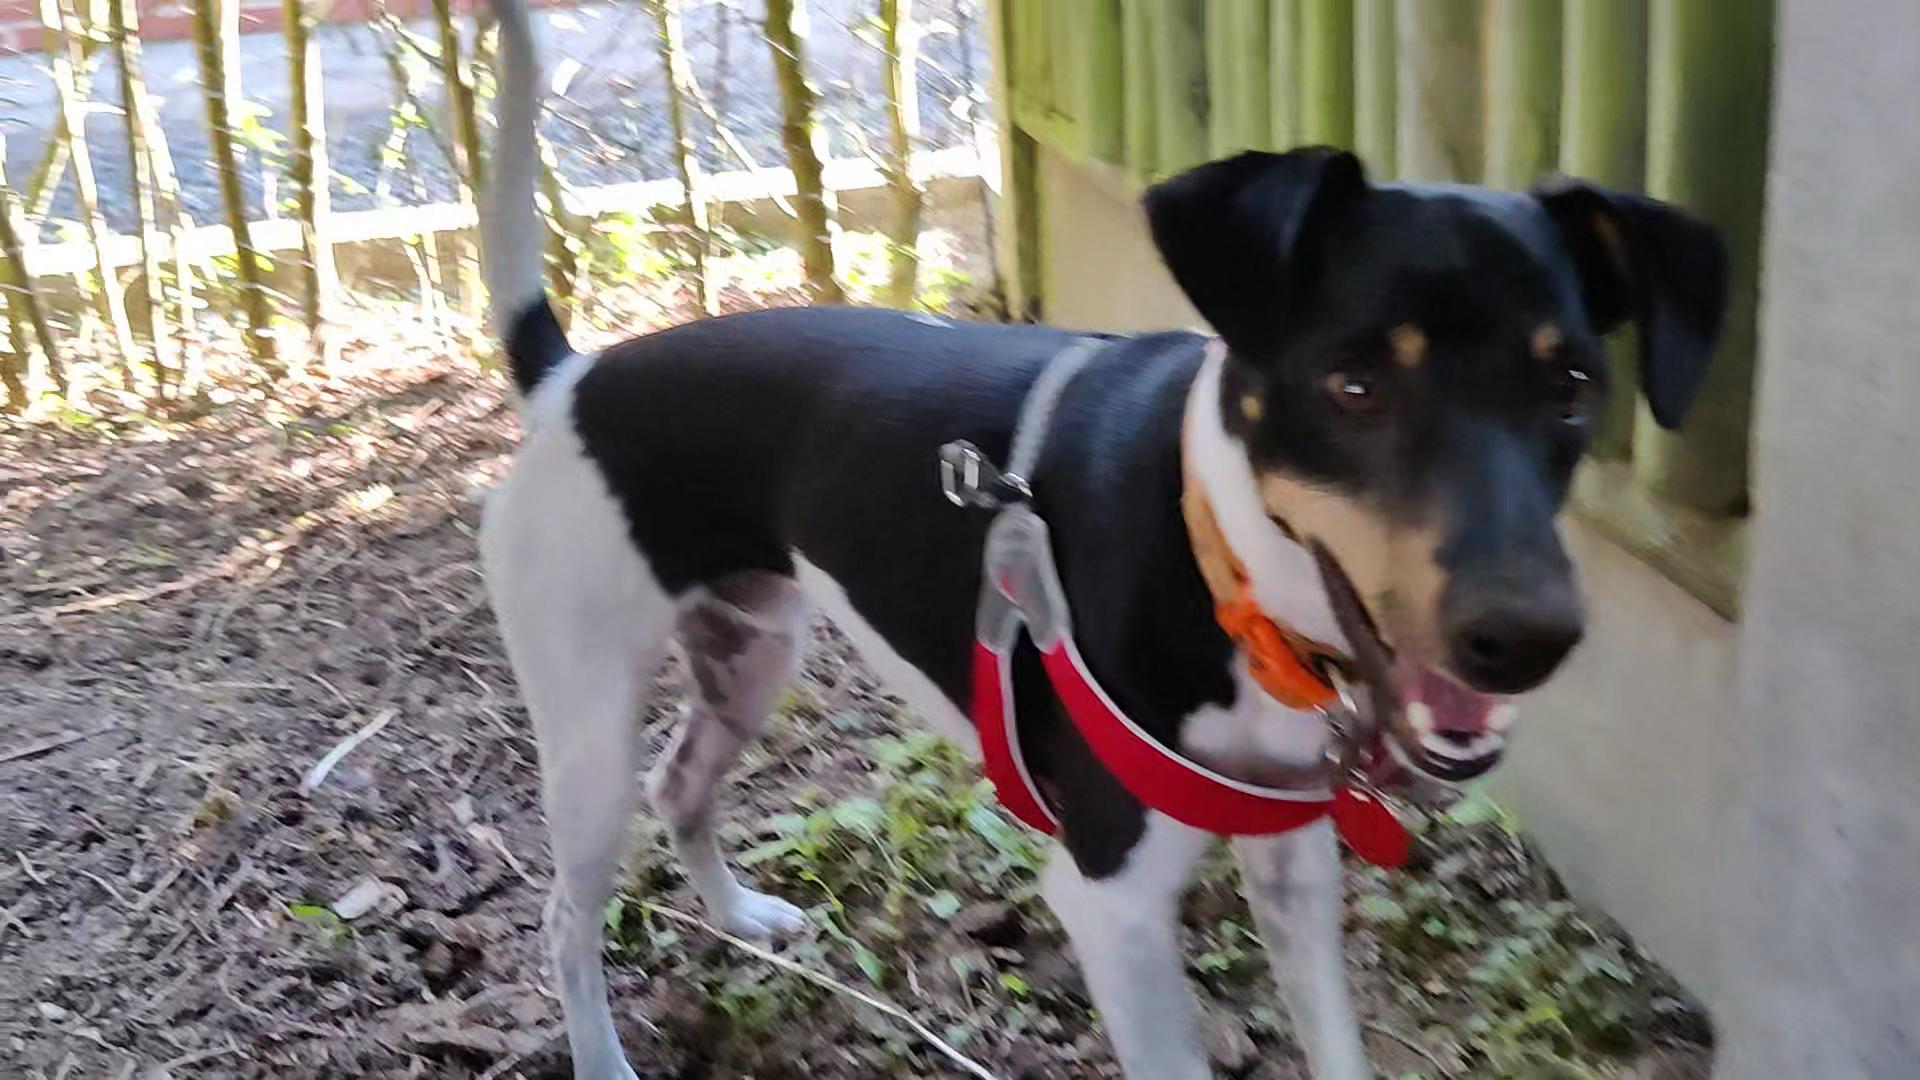Dog: (464, 0, 1734, 1079)
